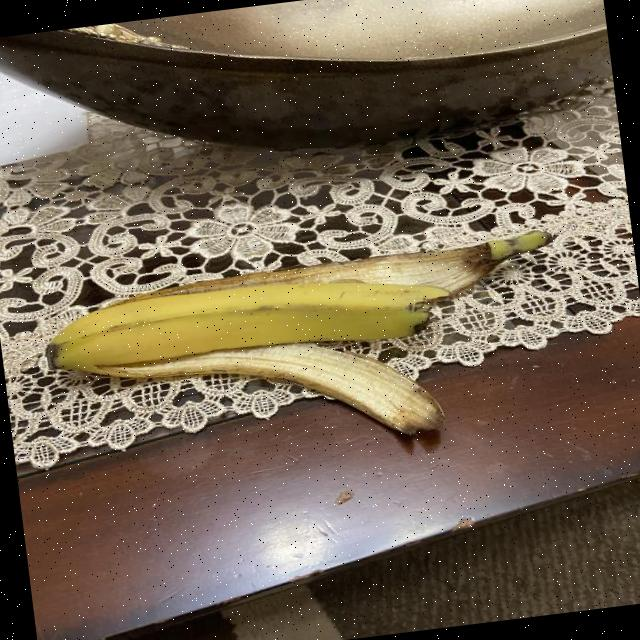banana-peel: (36, 226, 572, 478), (88, 322, 448, 474), (38, 257, 456, 382)
